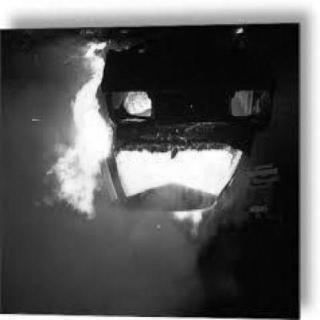Fire: (121, 89, 151, 123)
